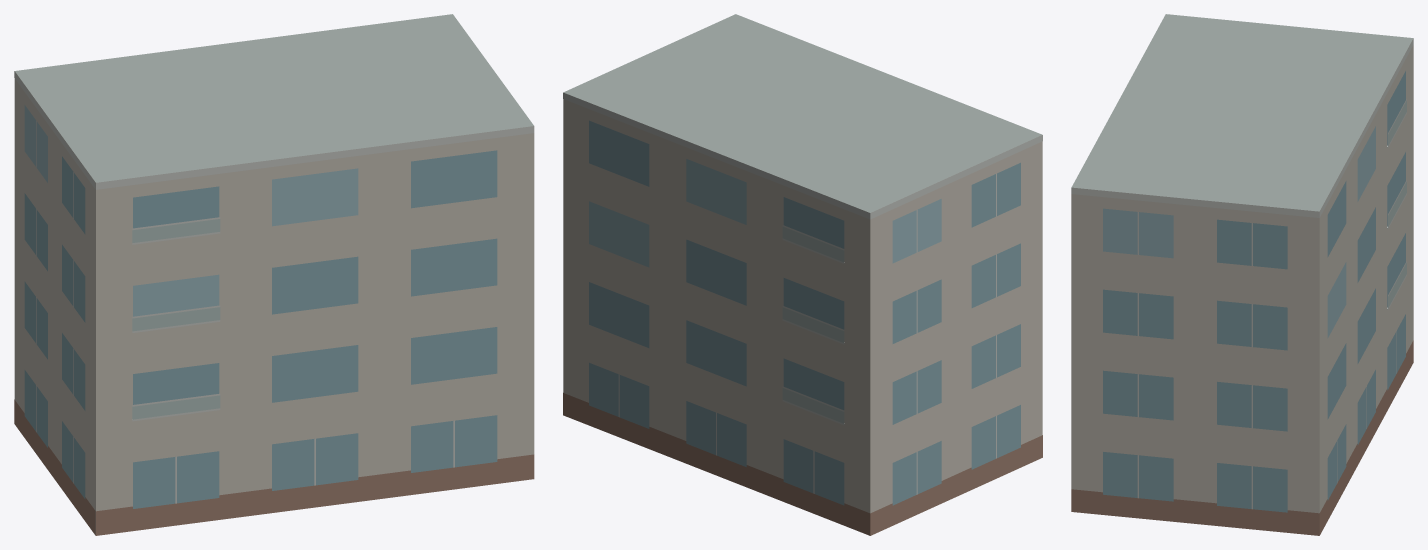
The model's file is residential-983f7b52-7672-4a76-bf75-6fdbfc1f5cfd.glb.
The picture shows the model from 3 angles, left to right: view 1: azimuth 30°, elevation 25°; view 2: azimuth 150°, elevation 25°; view 3: azimuth 270°, elevation 25°; orthographic projection. The views are drawn at different scales.
Visible parts, largest first — view 1: residential-983f7b52-7672-4a76-bf75-6fdbfc1f5cfd.tmp; view 2: residential-983f7b52-7672-4a76-bf75-6fdbfc1f5cfd.tmp; view 3: residential-983f7b52-7672-4a76-bf75-6fdbfc1f5cfd.tmp.
Boxes of the visible parts, x1,y1,x2,y2 form: residential-983f7b52-7672-4a76-bf75-6fdbfc1f5cfd.tmp: [14, 14, 534, 535]; residential-983f7b52-7672-4a76-bf75-6fdbfc1f5cfd.tmp: [563, 14, 1042, 535]; residential-983f7b52-7672-4a76-bf75-6fdbfc1f5cfd.tmp: [1071, 14, 1413, 535].
Bounding box in the file's own units: 15.95 × 12.2 × 11.68.
